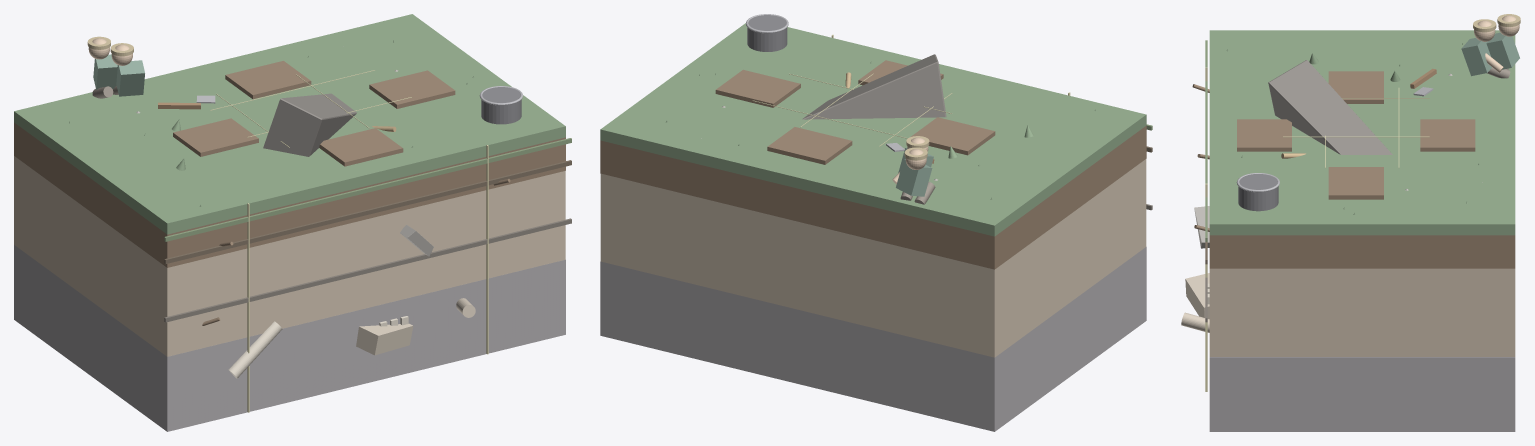
The model's file is teka-teki-tanah.glb.
The picture shows the model from 3 angles, left to right: view 1: azimuth 30°, elevation 25°; view 2: azimuth 150°, elevation 25°; view 3: azimuth 270°, elevation 25°; orthographic projection.
Visible parts, largest first — view 1: Ground_Joined, Hero_KapakGenggam, Fosil_Rahang, Ember, Arkeolog_Torso.001, Tulang_0, Arkeolog_Torso; view 2: Ground_Joined, Hero_KapakGenggam, Ember, Arkeolog_Torso; view 3: Ground_Joined, Hero_KapakGenggam, Ember, Arkeolog_Torso, Arkeolog_Torso.001, Fosil_Rahang, Serpih_2, Tulang_1.
Boxes of the visible parts, x1,y1,x2,y2 form: Ground_Joined: (14,14,571,431); Hero_KapakGenggam: (263,93,356,156); Fosil_Rahang: (356,323,413,355); Ember: (481,87,521,124); Arkeolog_Torso.001: (116,60,144,96); Tulang_0: (228,321,282,378); Arkeolog_Torso: (93,54,117,89); Ground_Joined: (600,23,1152,431); Hero_KapakGenggam: (802,54,946,119); Ember: (747,15,787,51); Arkeolog_Torso: (896,159,932,196); Ground_Joined: (1192,30,1515,431); Hero_KapakGenggam: (1268,60,1392,154); Ember: (1238,174,1278,211); Arkeolog_Torso: (1486,32,1519,69); Arkeolog_Torso.001: (1461,38,1491,76); Fosil_Rahang: (1185,273,1209,318); Serpih_2: (1194,206,1209,248); Tulang_1: (1181,312,1209,332).
Bounding box in the file's own units: 1.53 × 0.945 × 1.11.
